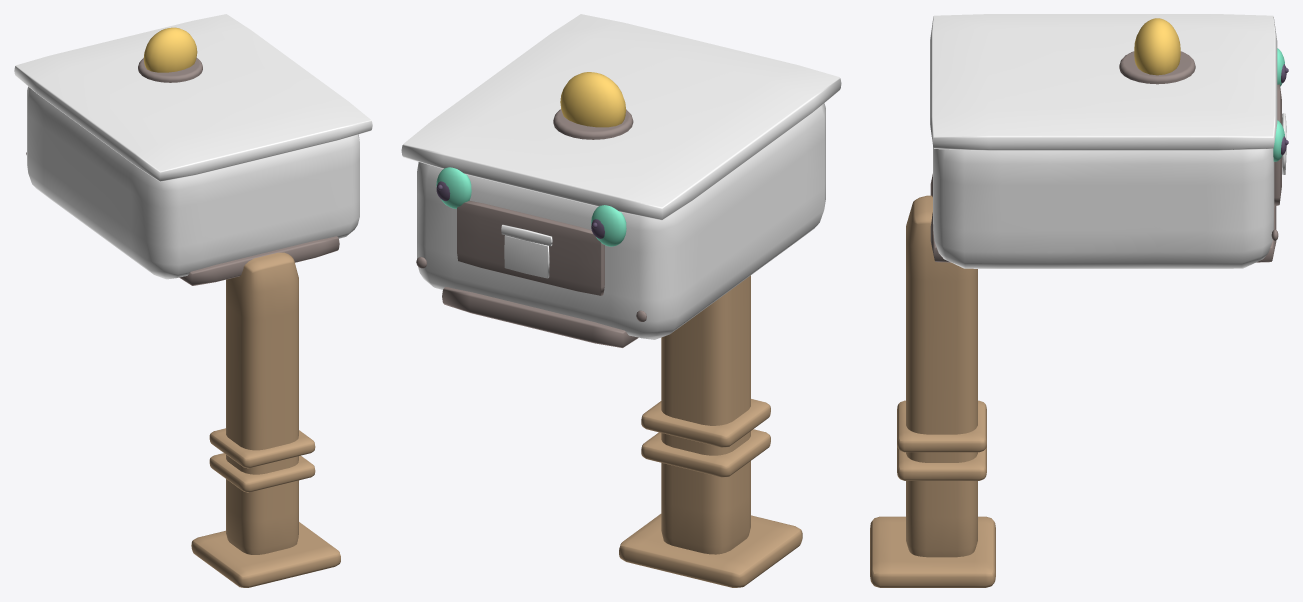
Rendered from CakeBoxer.glb.
3 views of the same model, side by side, from view 1: azimuth 30°, elevation 25°; view 2: azimuth 150°, elevation 25°; view 3: azimuth 270°, elevation 25° (orthographic). The views are drawn at different scales.
Parts seen in each view (by area): view 1: Stripe, Body, Frame, Trim, Lamp; view 2: Stripe, Body, Frame, Trim, Lamp, Icon, Eyes; view 3: Stripe, Body, Frame, Trim, Lamp.
Boxes of the visible parts, <box> form: Stripe: <box>14,14,372,181</box>; Body: <box>27,86,359,279</box>; Frame: <box>191,252,340,587</box>; Trim: <box>26,58,339,285</box>; Lamp: <box>143,27,197,72</box>; Stripe: <box>401,14,841,220</box>; Body: <box>417,103,825,339</box>; Frame: <box>619,275,802,587</box>; Trim: <box>416,109,646,347</box>; Lamp: <box>560,72,625,127</box>; Icon: <box>501,224,552,278</box>; Eyes: <box>436,167,626,246</box>; Stripe: <box>930,14,1277,150</box>; Body: <box>933,147,1274,268</box>; Frame: <box>870,195,995,587</box>; Trim: <box>930,51,1281,262</box>; Lamp: <box>1134,18,1180,75</box>.
Size of the model in its own units: 6.54 by 13.3 by 9.33.
